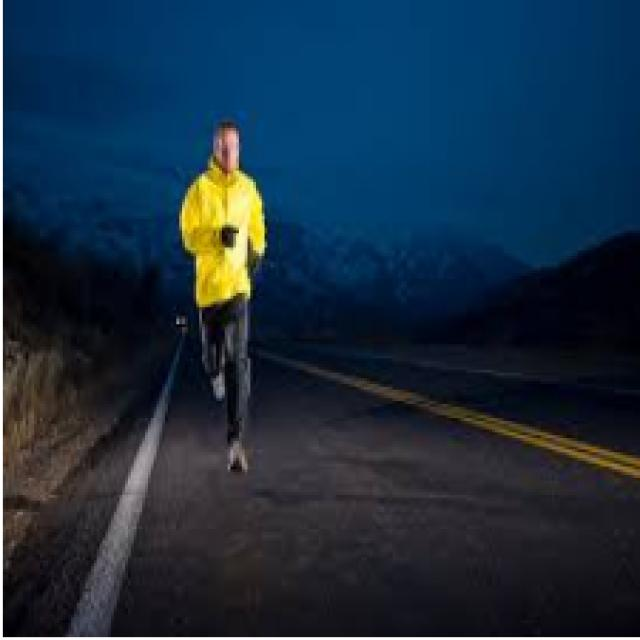running: (180, 116, 272, 476)
